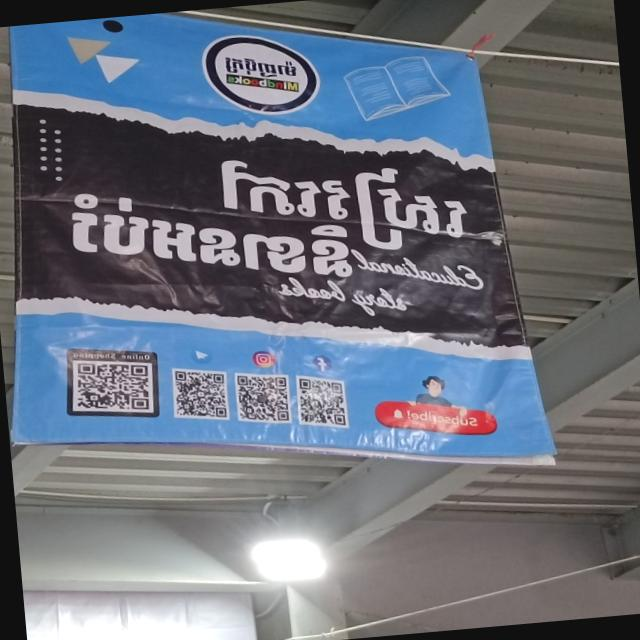Yolov11_80vkh: (217, 149, 480, 259), (55, 186, 357, 279), (221, 53, 300, 82)
